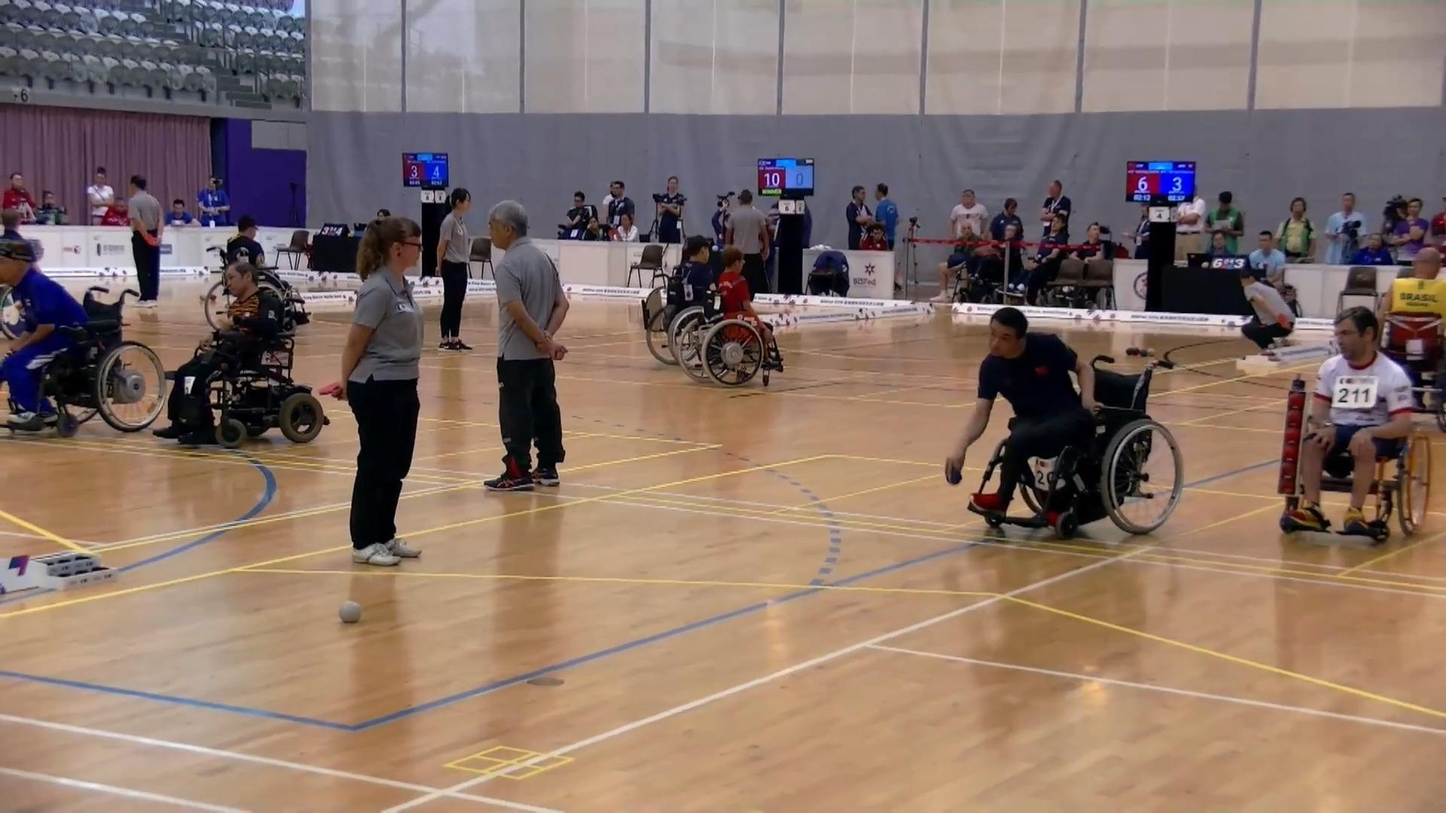white_ball: (337, 599, 365, 626)
